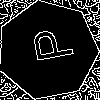P: (22, 25, 75, 66)
